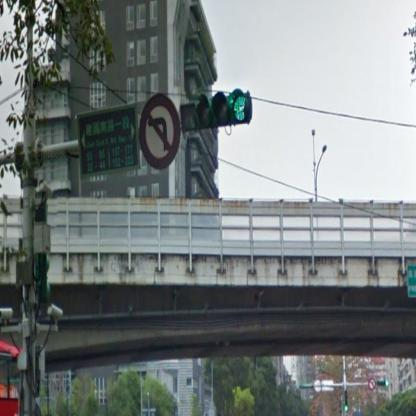Green Light: (177, 88, 254, 130)
